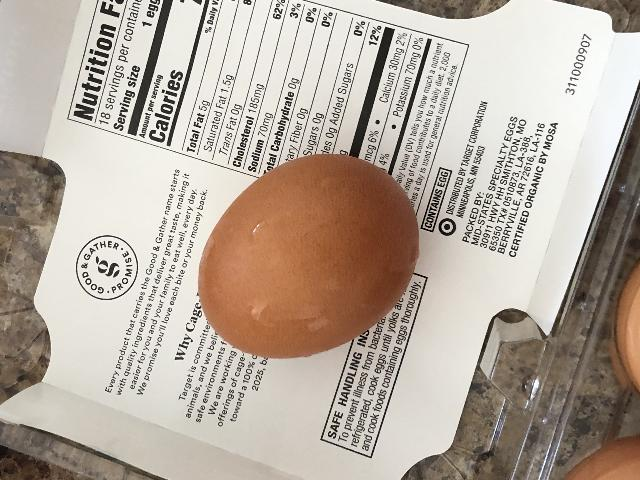Sano: (196, 152, 421, 359)
